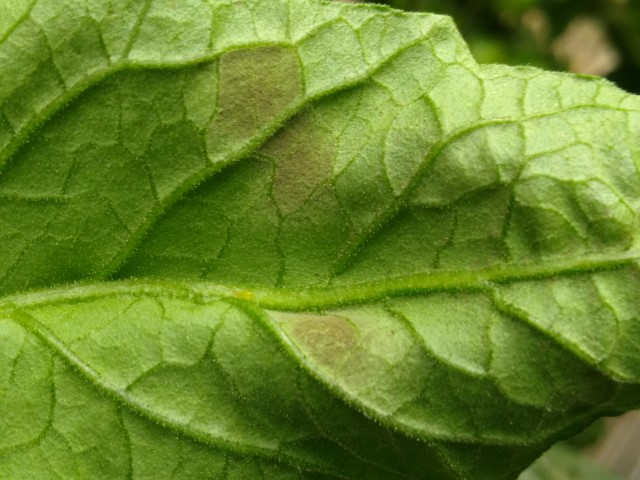cladosporium: (209, 49, 345, 223), (275, 312, 377, 394)
